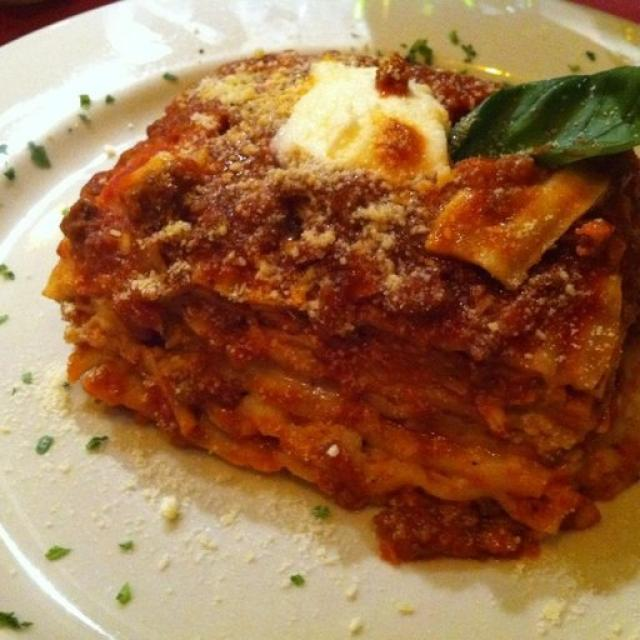Lasagna: (49, 28, 640, 513)
